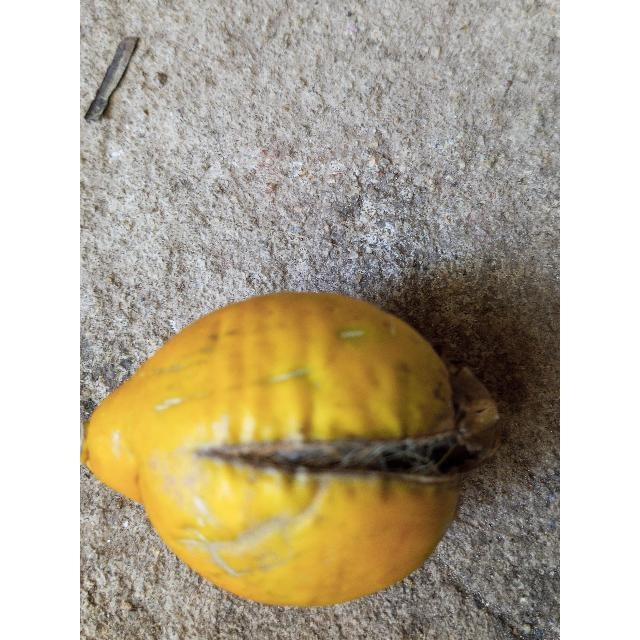damaged: (81, 293, 500, 606)
